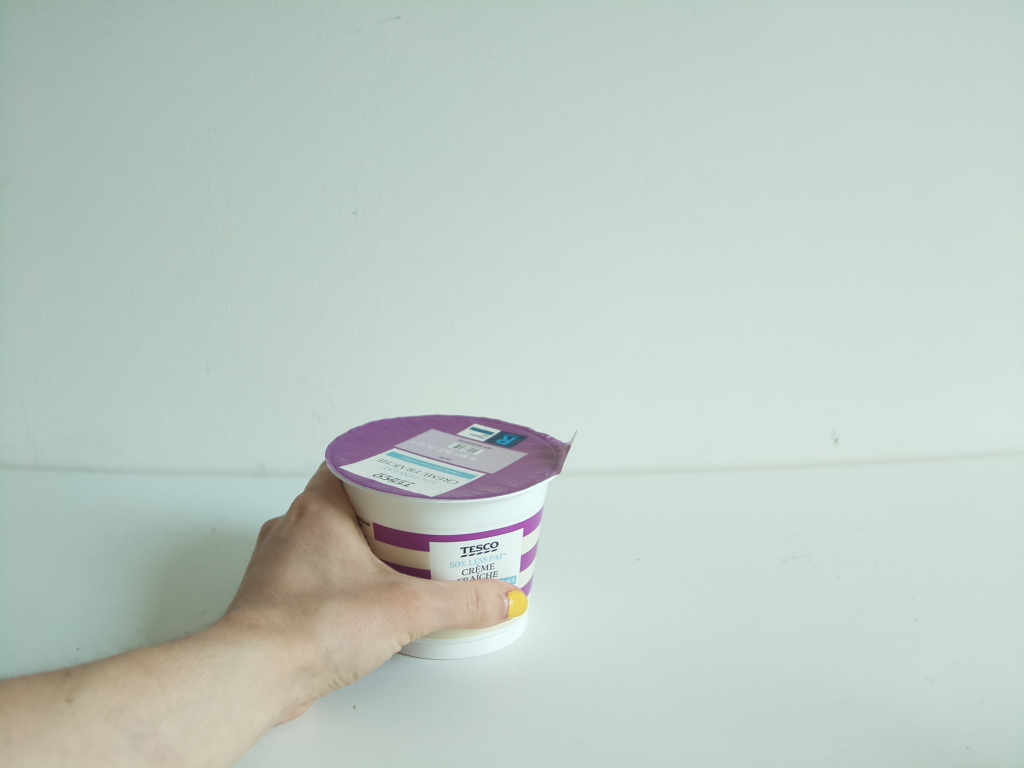cream: (322, 414, 575, 666)
